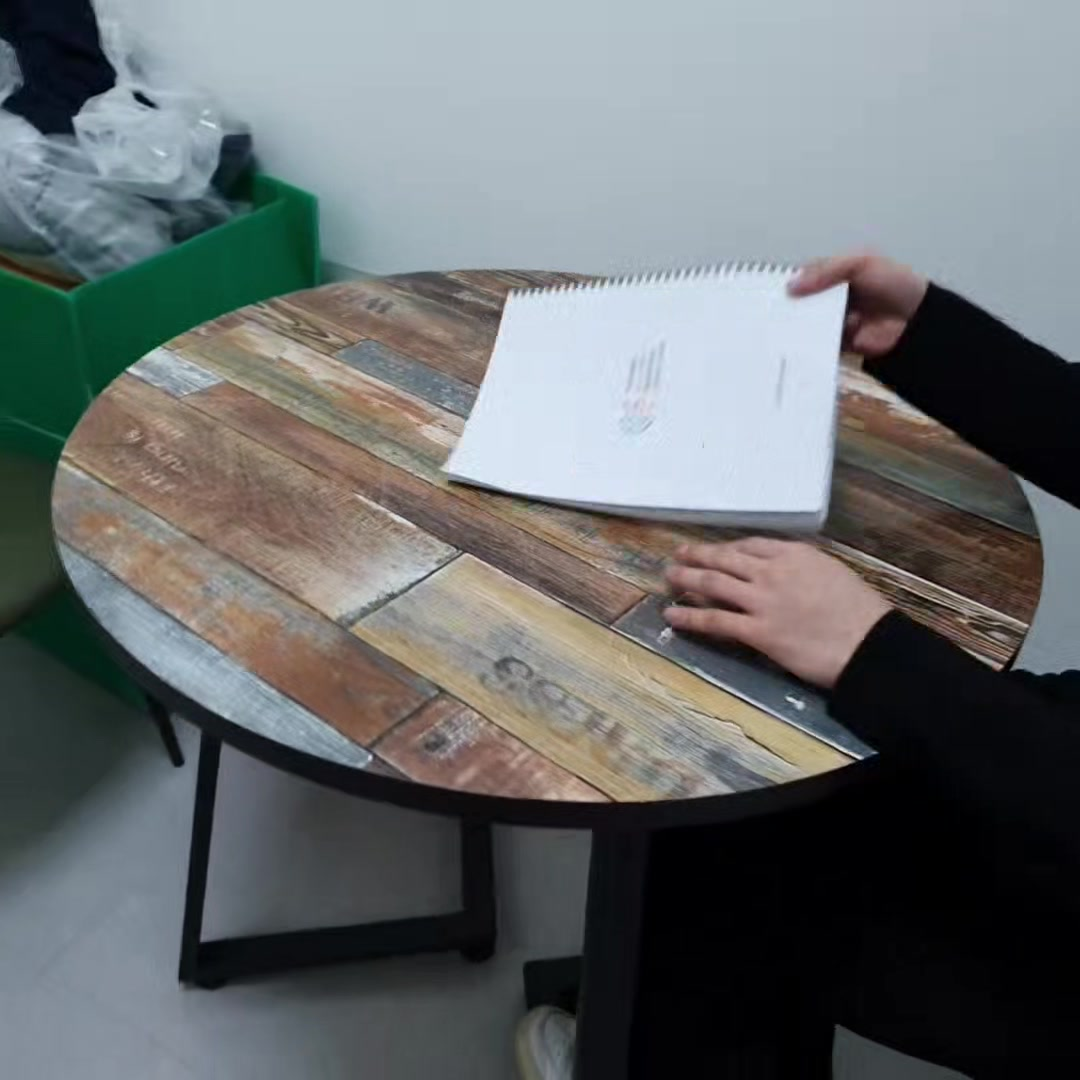book: (441, 267, 850, 521)
